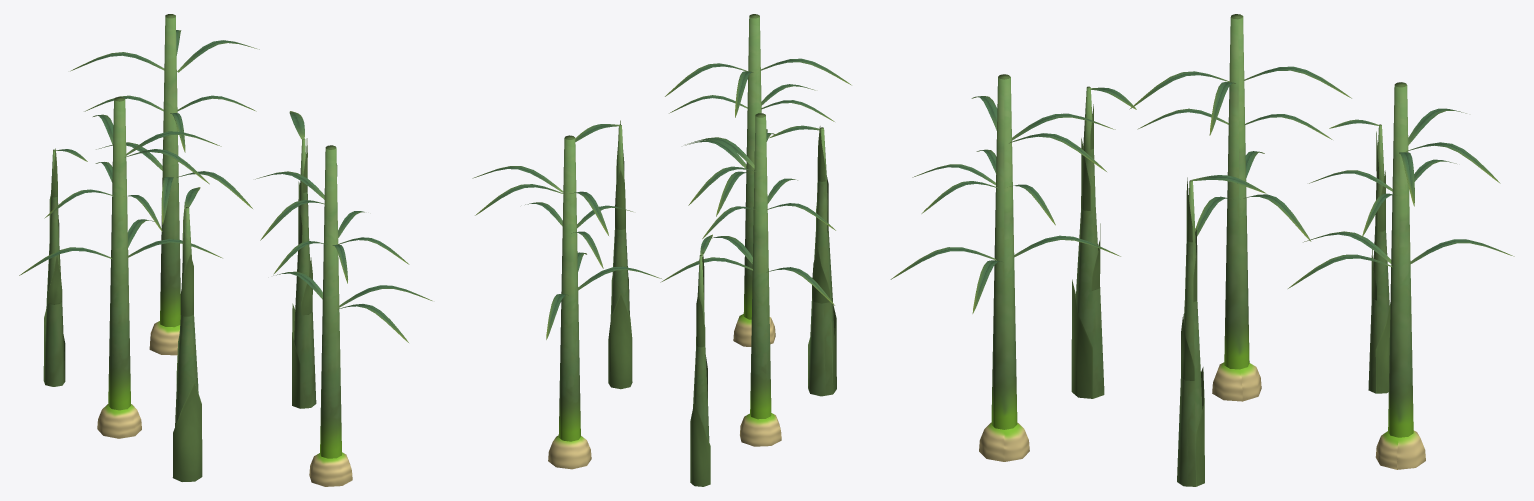
The model's file is Model_PlantaVerdeGengibreTexture_v1.fbx.
3 views of the same model, side by side, from view 1: azimuth 30°, elevation 25°; view 2: azimuth 150°, elevation 25°; view 3: azimuth 270°, elevation 25° (orthographic). The views are drawn at different scales.
Parts seen in each view (by area): view 1: gengibre verde.033; view 2: gengibre verde.033; view 3: gengibre verde.033.
Part boxes in pixels (x1,y1,x2,y2): gengibre verde.033: (19,14,432,486); gengibre verde.033: (472,14,851,486); gengibre verde.033: (890,14,1514,486).
Size of the model in its own units: 116 by 116 by 179.
1 material, 1 textured.
